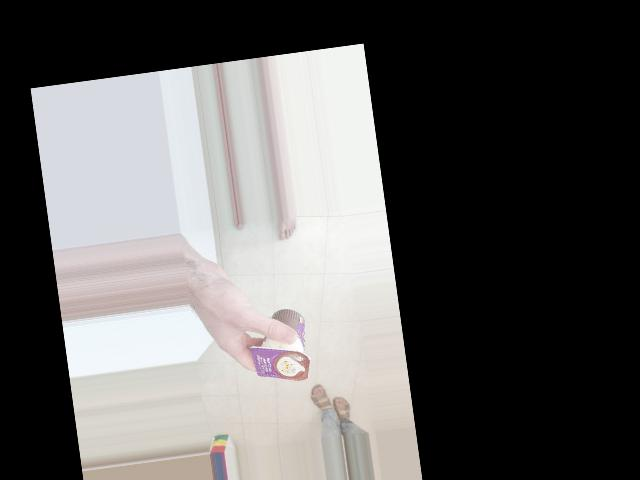milky: (249, 306, 314, 390)
